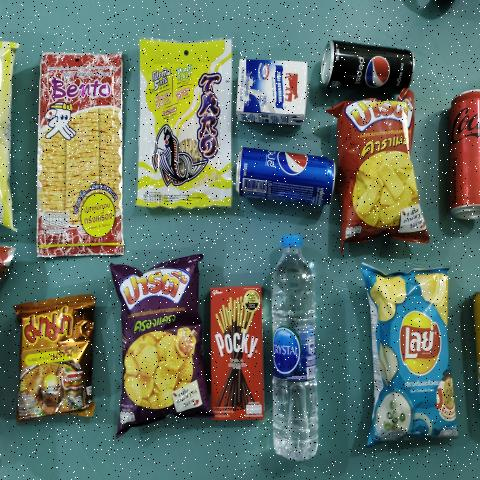bento_red: (42, 57, 120, 251)
coke_red: (452, 96, 480, 205)
crystal: (270, 228, 316, 463)
lay_blue: (362, 262, 456, 448)
mama: (16, 306, 95, 416)
party_purple: (115, 266, 202, 422)
party_red: (343, 109, 412, 224)
pepsi_black: (324, 38, 418, 95)
pepsi_blue: (234, 141, 340, 221)
pokki: (208, 281, 266, 430)
taro_yellow: (143, 41, 230, 201)
thai_denmark: (239, 57, 307, 128)
